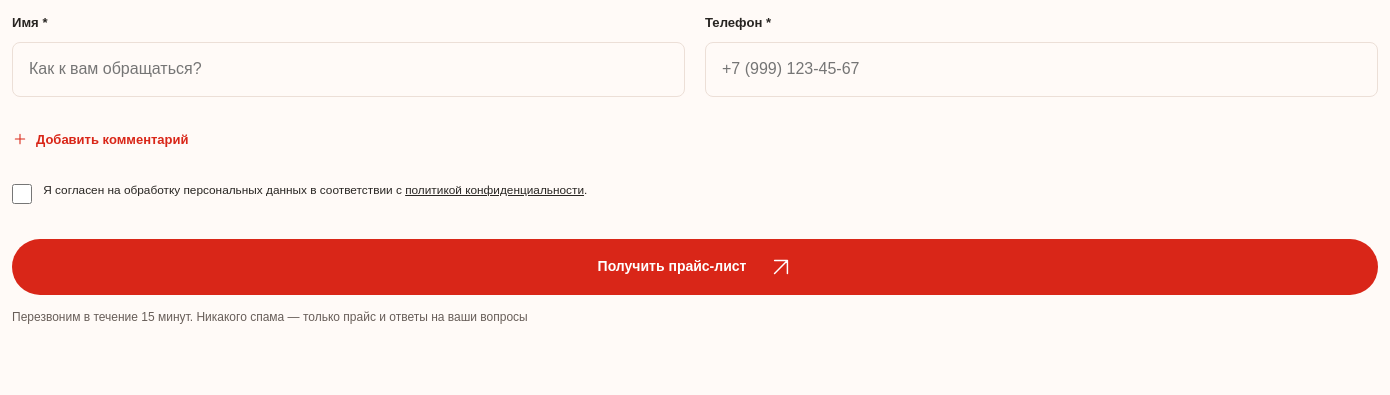
it: lead form › validates required contacts and explicit consent before requesting the API
Click the button "Получить прайс-лист" at (695, 267), box [12,239,1378,295]
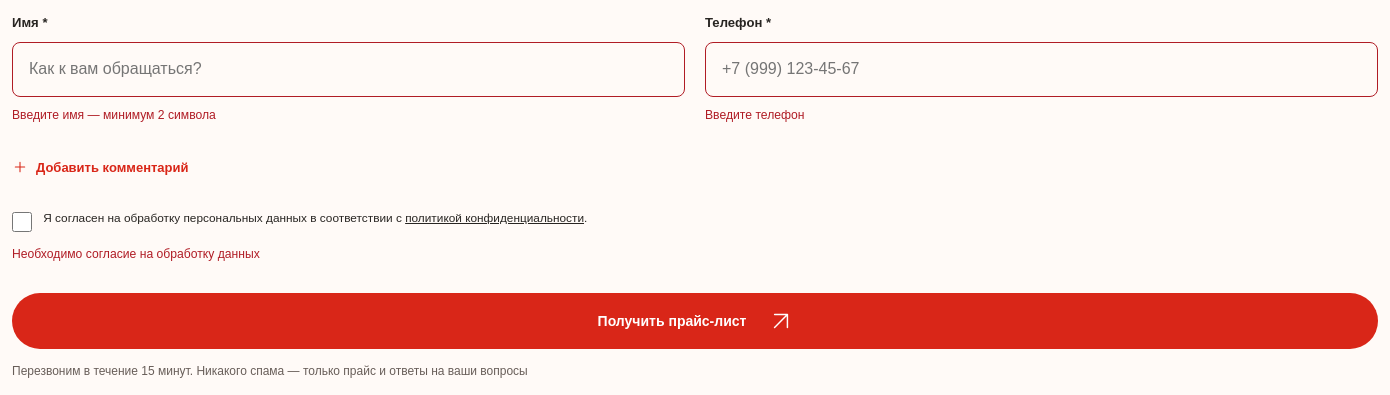
Expected: the text "Введите имя — минимум 2 символа" is shown, [12,108,216,122]
Expected: the text "Введите телефон" is shown, [705,108,804,122]
Expected: the text "Необходимо согласие на обработку данных" is shown, [12,247,260,261]
